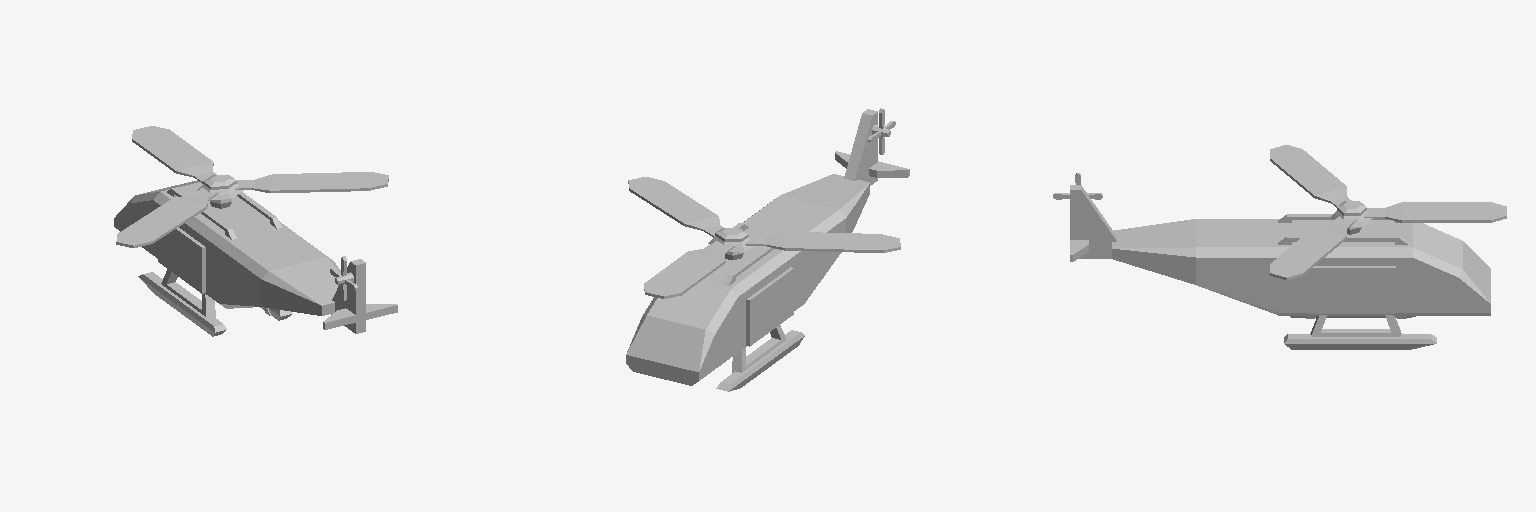
File: Heli.obj
3 views of the same model, side by side, from view 1: azimuth 30°, elevation 25°; view 2: azimuth 150°, elevation 25°; view 3: azimuth 270°, elevation 25° (orthographic).
Parts seen in each view (by area): view 1: detail_propellerThree%_18, plane_end_15, plane_tailPoint%_16, plane_body_14, plane_rudderLarge_20, air_vent_27, plane_cockpitBlock%_13, landing_float%_32, gear_strut%_25, detail_roofRails%_24; view 2: plane_cockpitBlock%_13, detail_propellerThree%_18, plane_end_15, plane_body_14, air_vent_27, plane_tailPoint%_16, plane_rudderLarge_20, landing_float%_32, gear_strut%_25; view 3: detail_propellerThree%_18, plane_cockpitBlock%_13, plane_end_15, air_vent_26, plane_tailPoint%_16, plane_body_14, plane_rudderLarge_20, landing_float%_31, gear_strut%_25, detail_roofRails%_24.
Boxes of the visible parts, x1,y1,x2,y2 form: detail_propellerThree%_18: [116, 126, 388, 247]; plane_end_15: [219, 226, 327, 308]; plane_tailPoint%_16: [261, 257, 340, 315]; plane_body_14: [179, 196, 286, 302]; plane_rudderLarge_20: [323, 259, 397, 333]; air_vent_27: [158, 227, 205, 293]; plane_cockpitBlock%_13: [114, 180, 202, 258]; landing_float%_32: [138, 272, 226, 336]; gear_strut%_25: [161, 269, 271, 317]; detail_roofRails%_24: [167, 187, 281, 239]; plane_cockpitBlock%_13: [626, 273, 749, 385]; detail_propellerThree%_18: [628, 177, 900, 298]; plane_end_15: [742, 195, 845, 303]; plane_body_14: [713, 228, 803, 310]; air_vent_27: [746, 267, 793, 346]; plane_tailPoint%_16: [782, 174, 869, 232]; plane_rudderLarge_20: [835, 109, 909, 185]; landing_float%_32: [716, 330, 804, 391]; gear_strut%_25: [732, 325, 786, 372]; detail_propellerThree%_18: [1270, 145, 1506, 279]; plane_cockpitBlock%_13: [1390, 220, 1490, 315]; plane_end_15: [1196, 219, 1279, 315]; air_vent_26: [1308, 266, 1395, 313]; plane_tailPoint%_16: [1112, 219, 1195, 284]; plane_body_14: [1280, 220, 1389, 315]; plane_rudderLarge_20: [1070, 185, 1116, 261]; landing_float%_31: [1284, 334, 1436, 349]; gear_strut%_25: [1306, 315, 1406, 336]; detail_roofRails%_24: [1278, 214, 1408, 244].
Bounding box in the file's own units: 3.74 × 2 × 5.39.